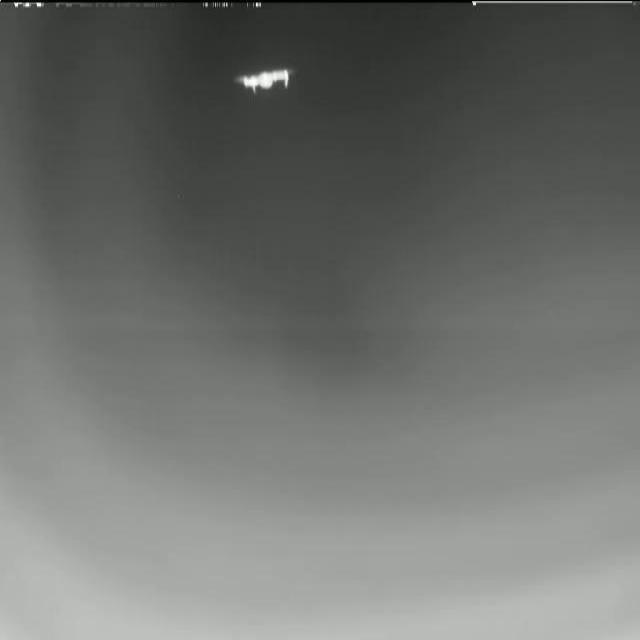DRONE: (228, 64, 299, 95)
